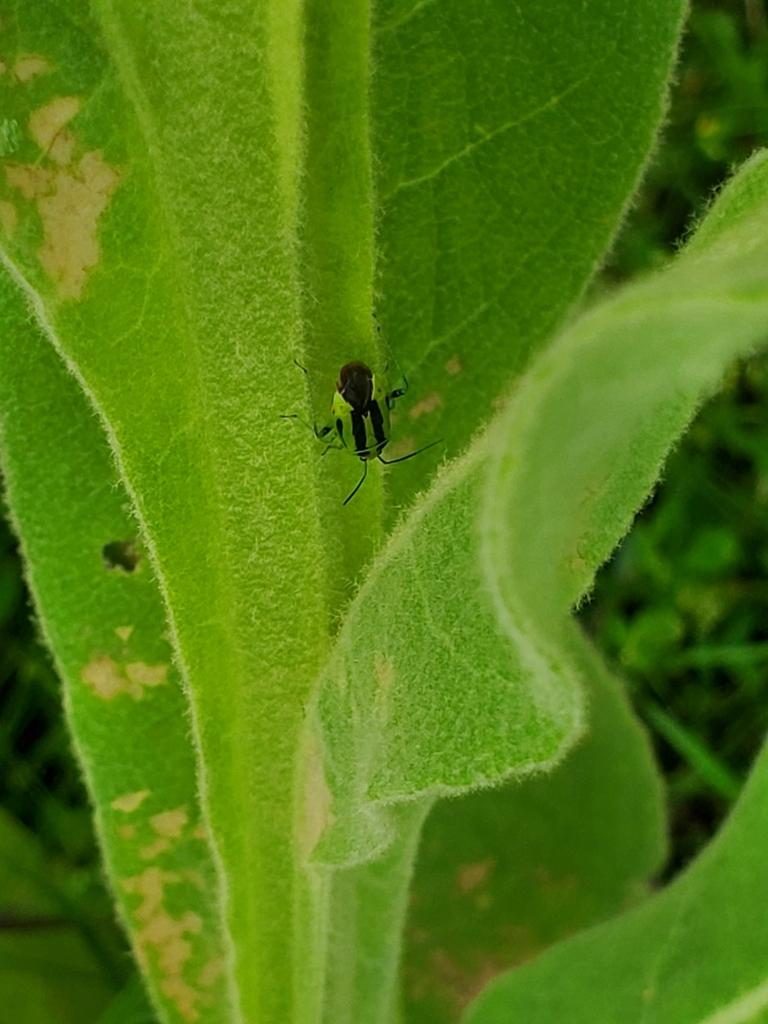plant_bugs: (249, 301, 474, 531)
